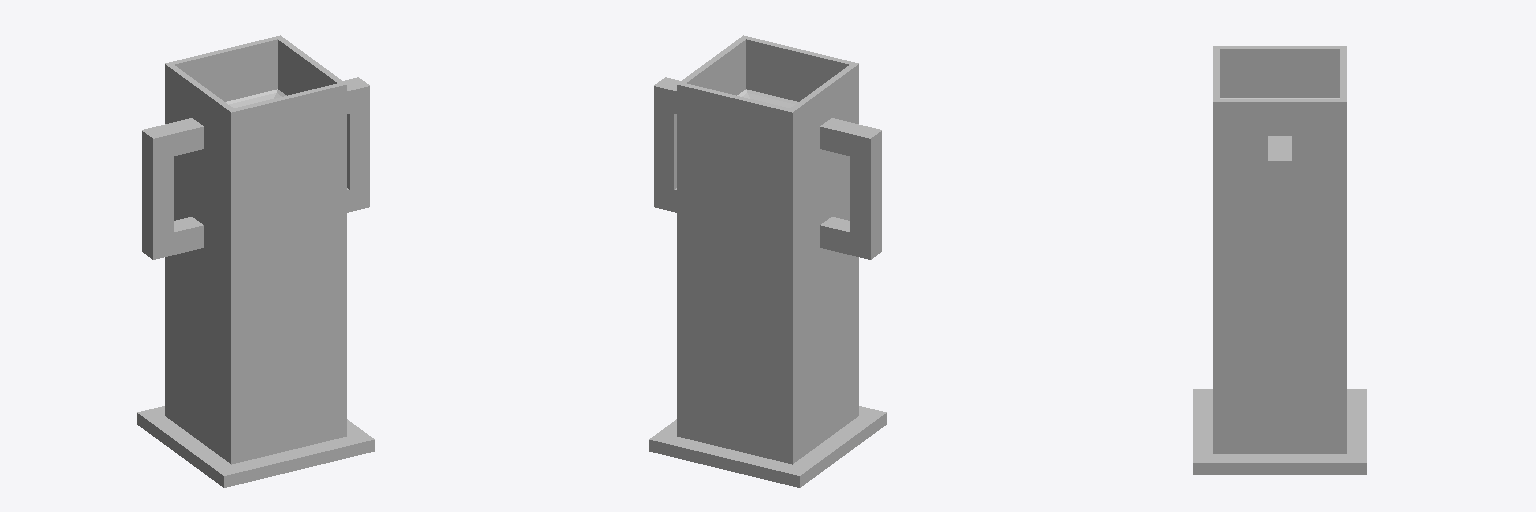
The model's file is QuenchTank_GB.obj.
3 views of the same model, side by side, from view 1: azimuth 30°, elevation 25°; view 2: azimuth 150°, elevation 25°; view 3: azimuth 270°, elevation 25° (orthographic).
Visible parts, largest first — view 1: Cube; view 2: Cube; view 3: Cube.
Part boxes in pixels (left/top/right/bottom): Cube: left=137, top=35, right=374, bottom=487; Cube: left=649, top=35, right=886, bottom=487; Cube: left=1193, top=46, right=1366, bottom=474.
Bounding box in the file's own units: 3.75 × 6 × 2.6.